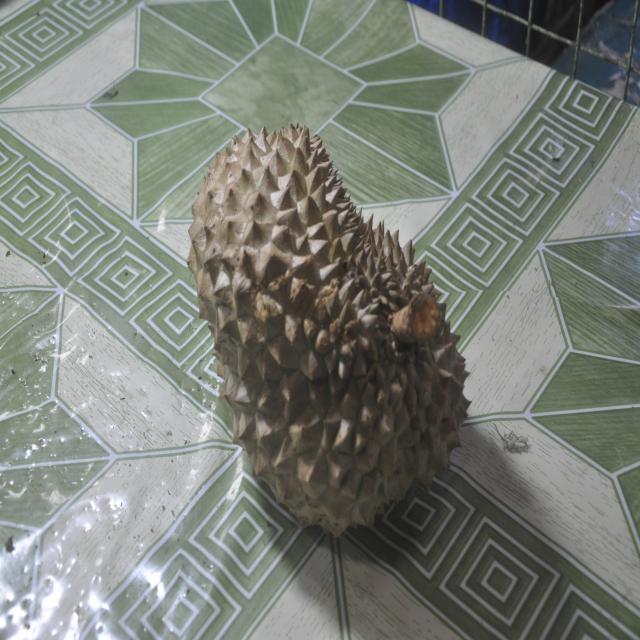mature: (172, 112, 484, 536)
